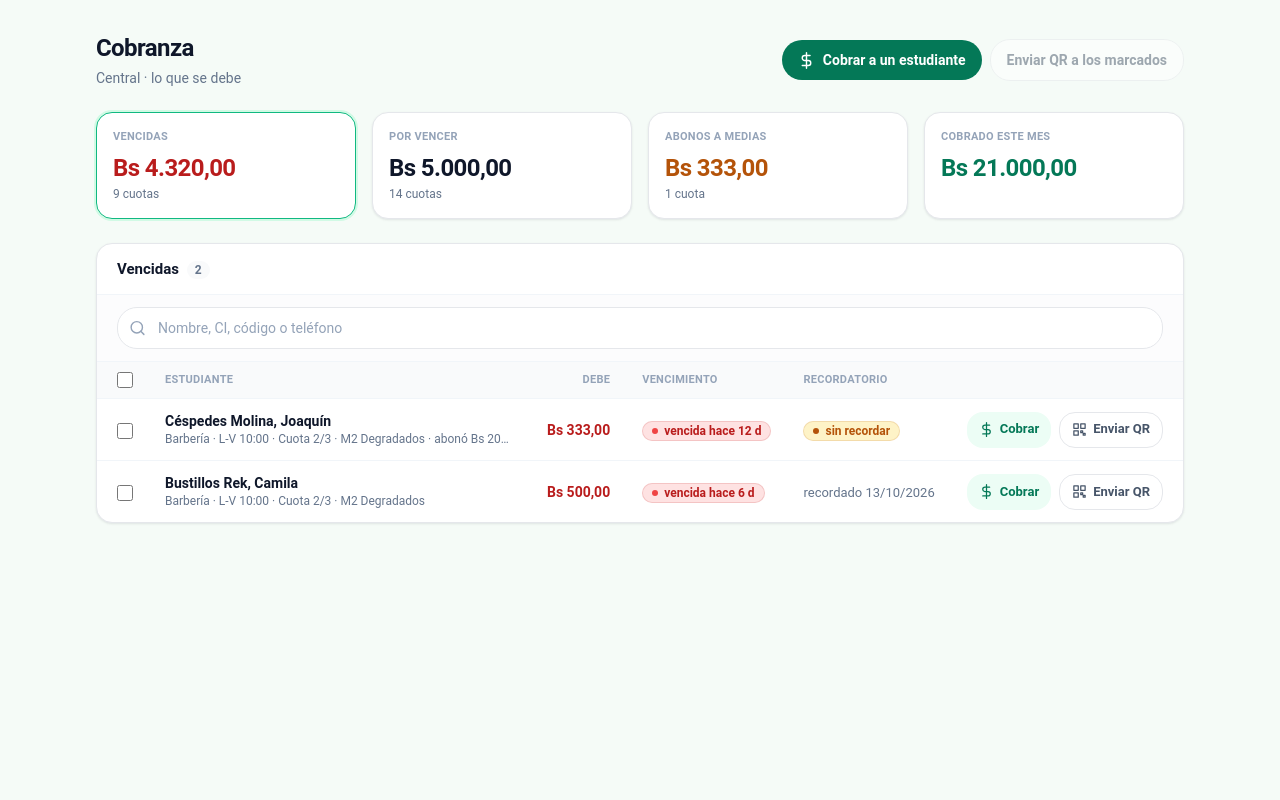
Test case: N7 · cobranza › CUOTA_SIN_SALDO (400) al armar el recordatorio: el mensaje del backend tal cual y la lista se vuelve a pedir
What coordinates should you click on to do the following:
click the button "Enviar QR" in the row of "vencida hace 12 d"
I would click on:
 (1111, 430)
Its box is [1059,412,1163,448].
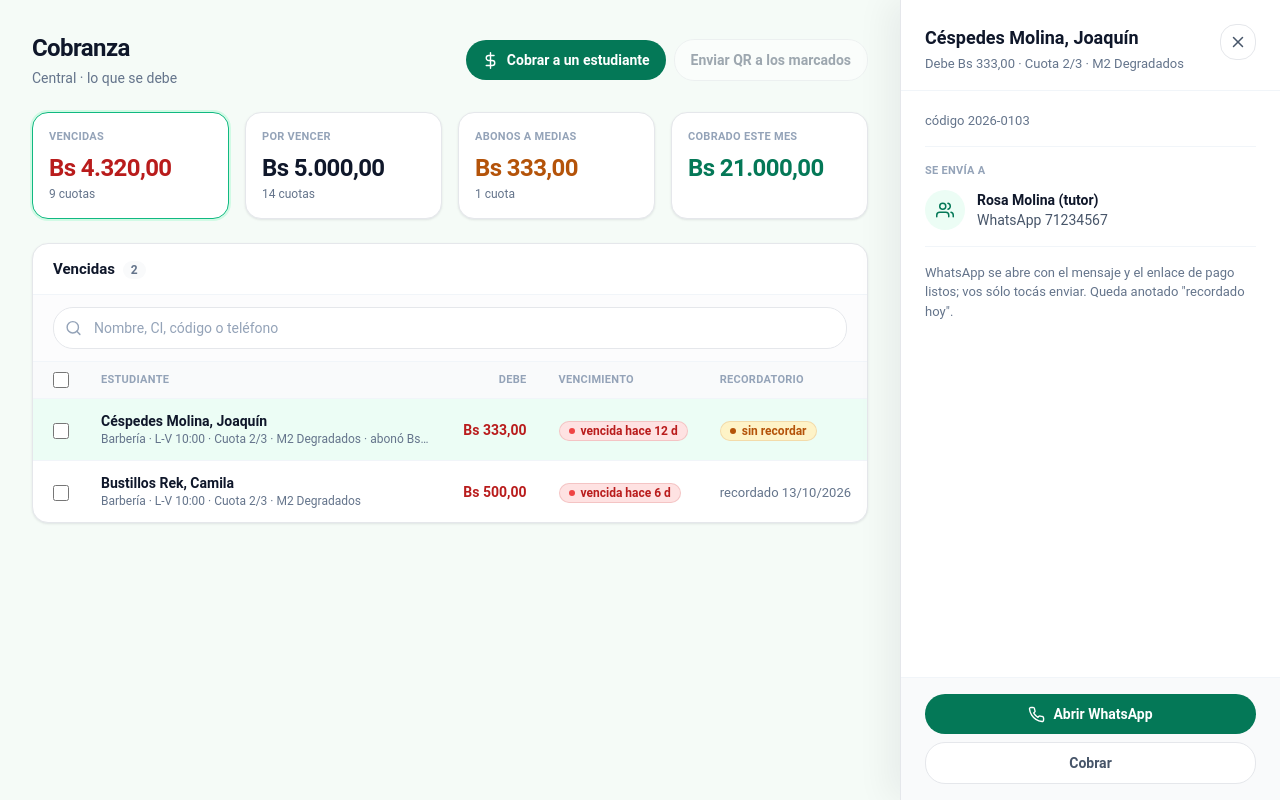
What coordinates should you click on to do the following:
click the button "Abrir WhatsApp"
I would click on:
 (1090, 714)
Its box is [925,694,1256,734].
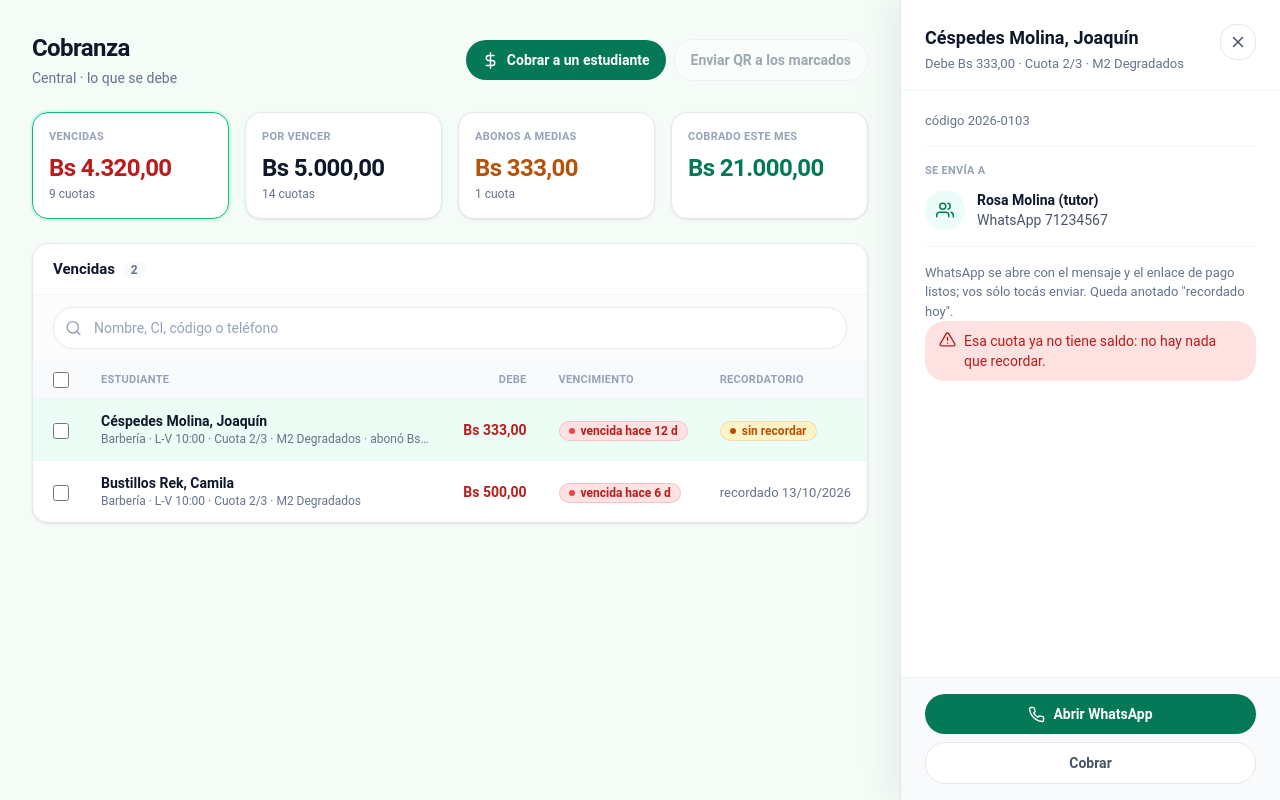
Check: the text "Esa cuota ya no tiene saldo: no hay nada que recordar." is shown, box [964,331,1242,371]
